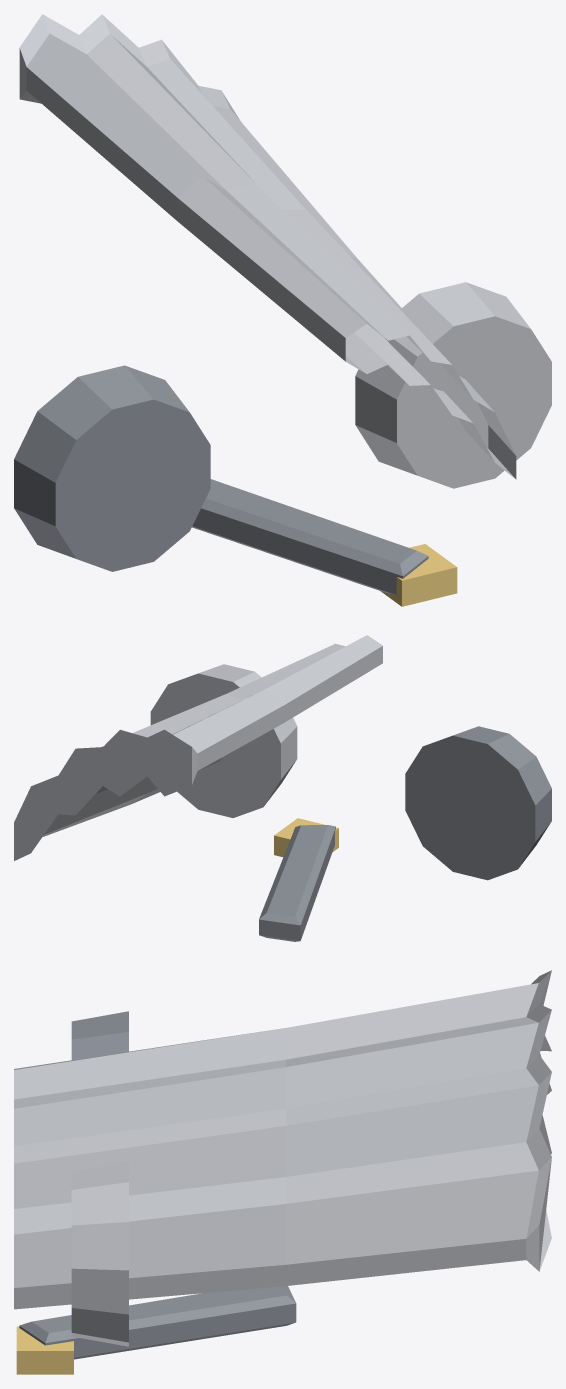
The model's file is cape_halfcape.glb.
3 views of the same model, one above another, from view 1: azimuth 30°, elevation 25°; view 2: azimuth 150°, elevation 25°; view 3: azimuth 270°, elevation 25° (orthographic). The views are drawn at different scales.
Parts seen in each view (by area): view 1: UpperArmR, Cape1, UpperArmL, Cape0, Torso; view 2: UpperArmR, Cape1, UpperArmL, Torso, Cape0; view 3: Cape1, Cape0, Torso, UpperArmL, UpperArmR.
Boxes of the visible parts, <box> form: UpperArmR: <box>14,365,210,571</box>; Cape1: <box>19,14,357,258</box>; UpperArmL: <box>355,282,551,488</box>; Cape0: <box>177,176,516,479</box>; Torso: <box>192,479,457,606</box>; UpperArmR: <box>405,726,551,880</box>; Cape1: <box>14,689,283,860</box>; UpperArmL: <box>150,664,297,817</box>; Torso: <box>259,818,338,941</box>; Cape0: <box>132,635,382,803</box>; Cape1: <box>286,970,551,1285</box>; Cape0: <box>14,1028,285,1309</box>; Torso: <box>16,1286,296,1374</box>; UpperArmL: <box>71,1161,128,1346</box>; UpperArmR: <box>71,1011,128,1059</box>.
Bounding box in the file's own units: 1.03 × 0.7443 × 1.03.
